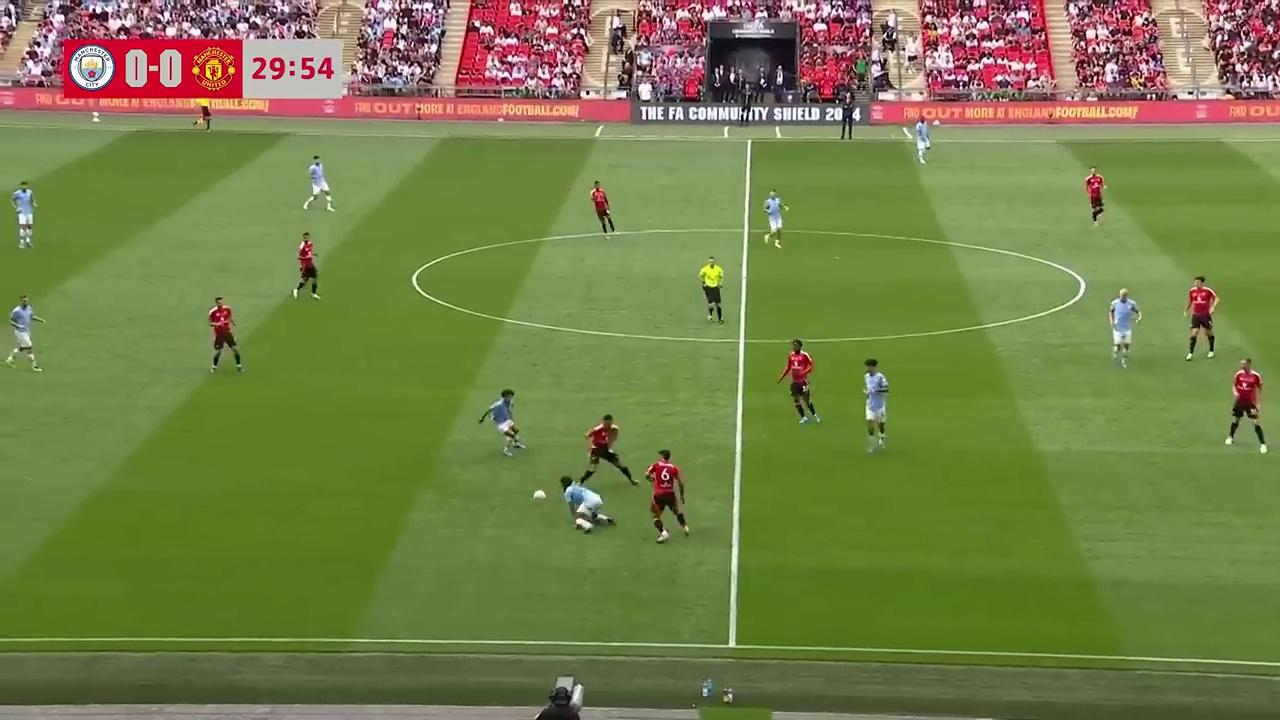ball: (531, 487, 546, 500)
player: (644, 449, 689, 542), (1224, 357, 1267, 452), (580, 413, 636, 483), (776, 339, 820, 426), (560, 473, 617, 534), (477, 389, 526, 456), (4, 294, 44, 372), (1183, 275, 1219, 360), (207, 295, 244, 374), (1108, 288, 1141, 367), (862, 358, 889, 453), (293, 231, 321, 300), (10, 181, 36, 249), (303, 154, 334, 211), (589, 180, 616, 239), (761, 188, 787, 248), (1083, 166, 1106, 225), (914, 119, 930, 163), (838, 104, 854, 142)
referee: (698, 255, 725, 323), (193, 93, 214, 133)
